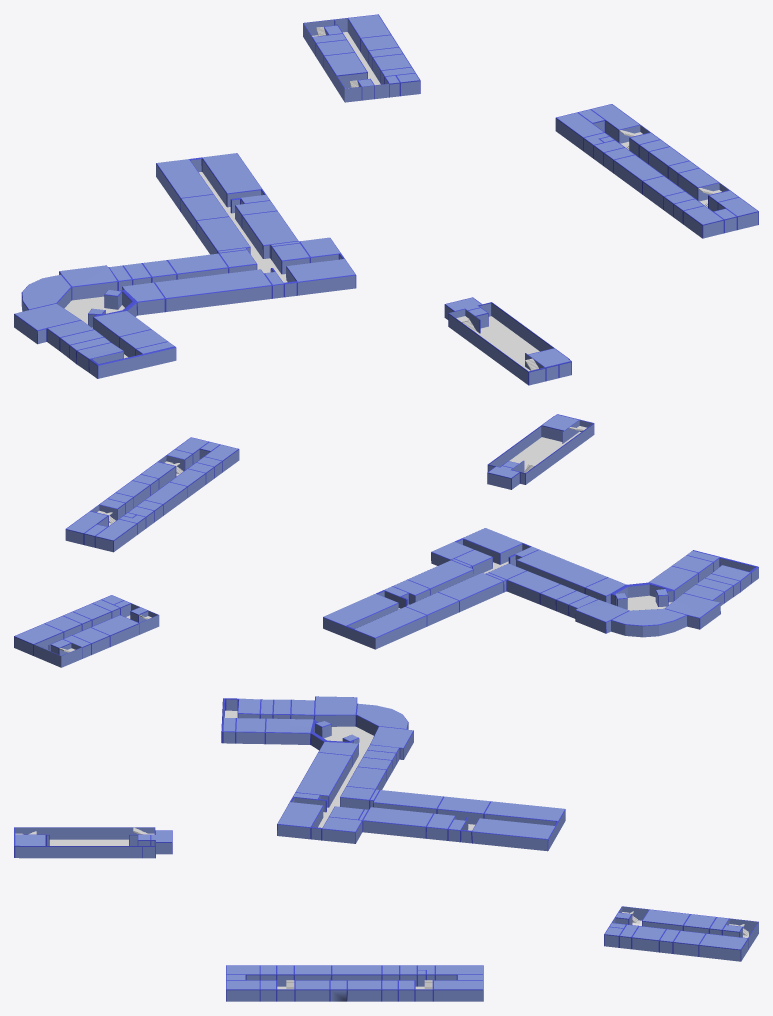
Rendered from dstu_6.glb.
3 renders of one model, top to bottom at view 1: azimuth 30°, elevation 25°; view 2: azimuth 150°, elevation 25°; view 3: azimuth 270°, elevation 25°, orthographic. The views are drawn at different scales.
Parts seen in each view (by area): view 1: Plane.007, 6, 66, K6; view 2: Plane.007, 6, 66, K6; view 3: Plane.007, 6, 66, K6.
Boxes of the visible parts, x1,y1,x2,y2 form: Plane.007: (14,153,356,378); 6: (555,104,758,238); 66: (303,14,420,102); K6: (444,297,571,385); Plane.007: (323,528,758,649); 6: (65,437,239,552); 66: (14,595,159,667); K6: (487,414,594,489); Plane.007: (221,696,565,851); 6: (226,965,483,1001); 66: (604,906,758,961); K6: (14,827,172,858).
Size of the model in its own units: 155 by 6.13 by 170.
